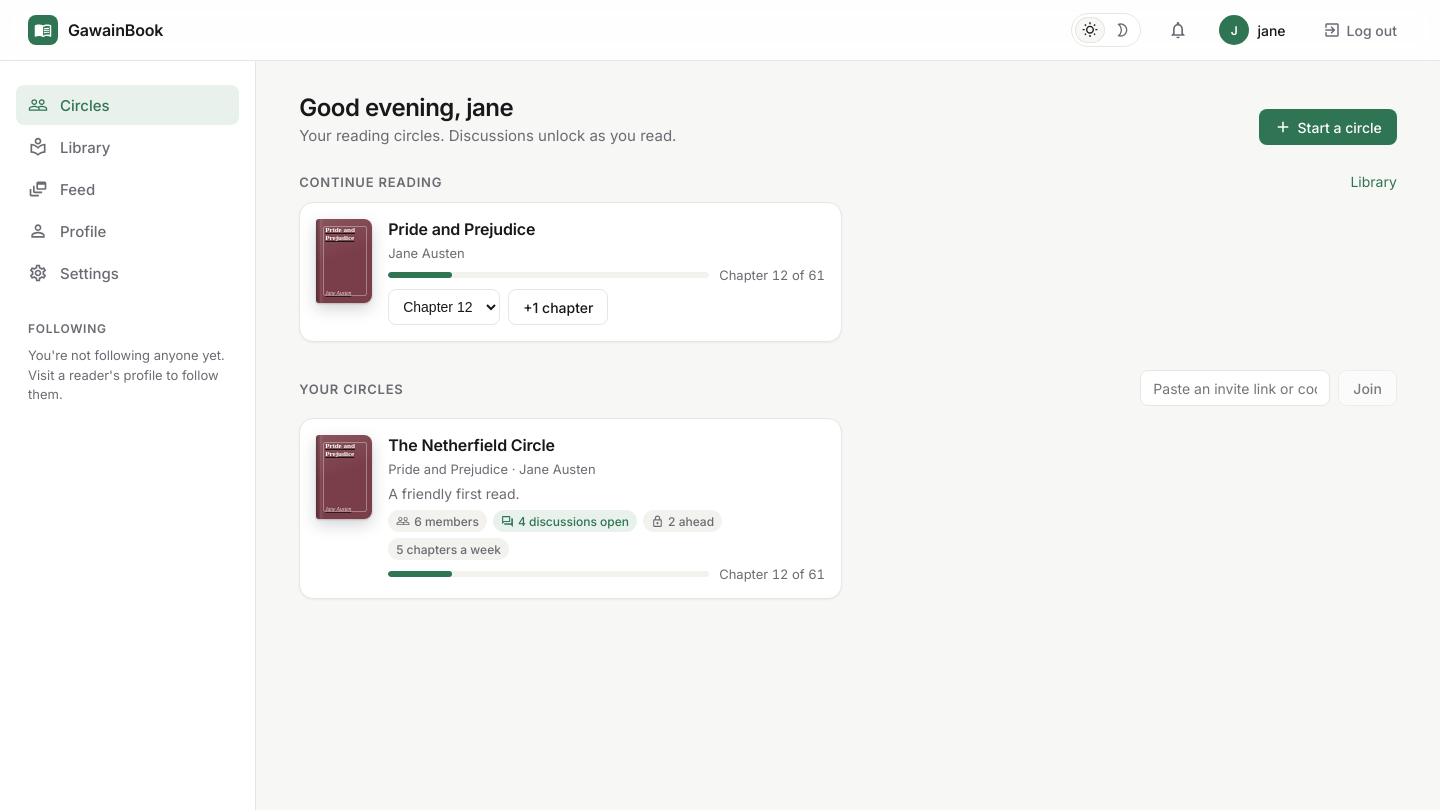
Scenario: invite code › shows an invalid code error
Type "nope" into the field named "Invite code" at (1235, 388), box left=1140, top=370, right=1330, bottom=406
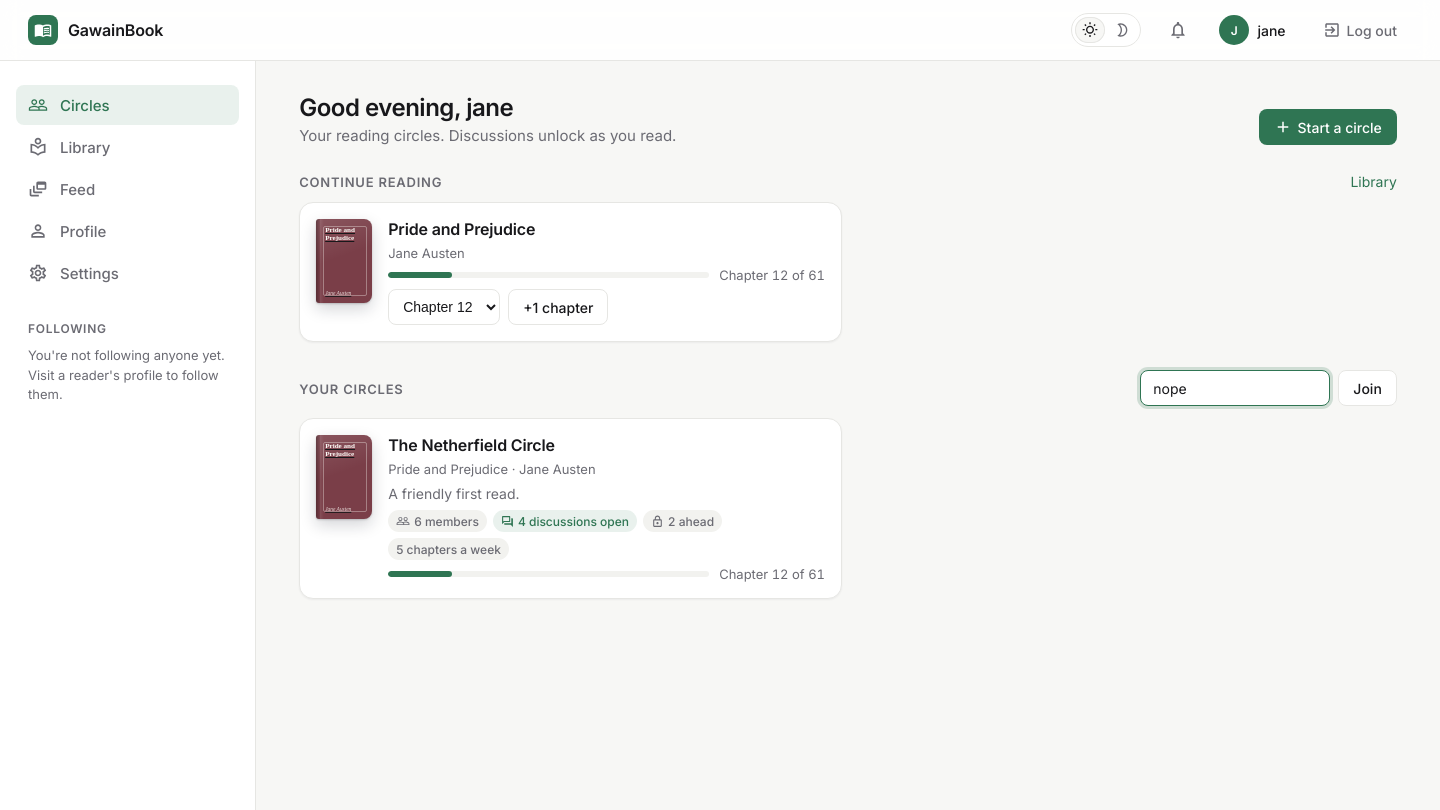
Click the button "Join" at (1368, 388), box left=1338, top=370, right=1397, bottom=406
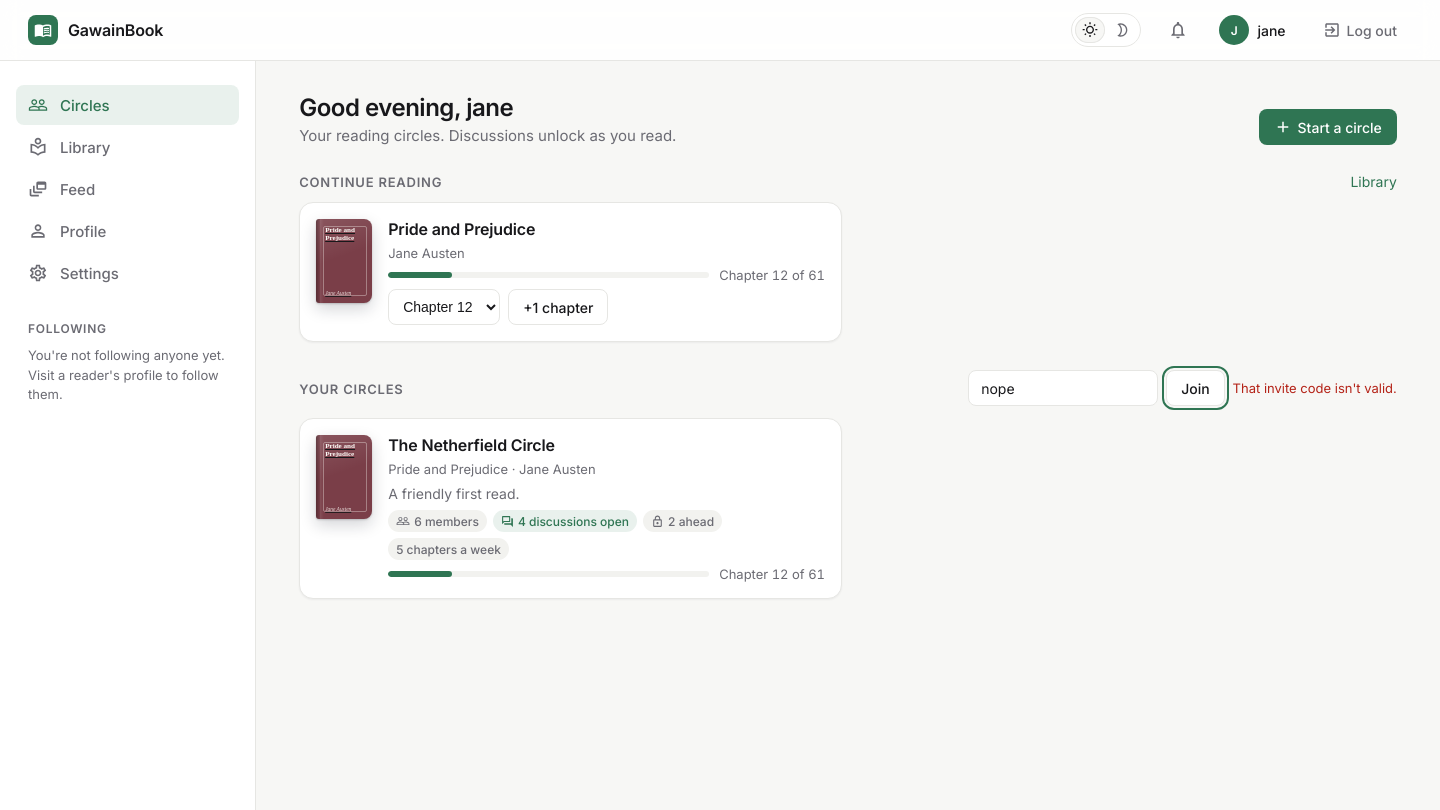
Check: the message reads "That invite code isn't valid.", box left=1233, top=380, right=1397, bottom=396
